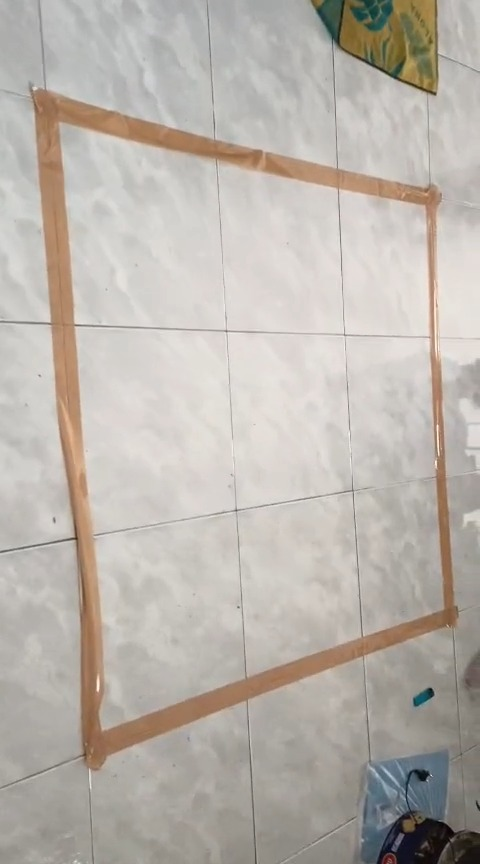floor marking: (33, 88, 457, 769)
